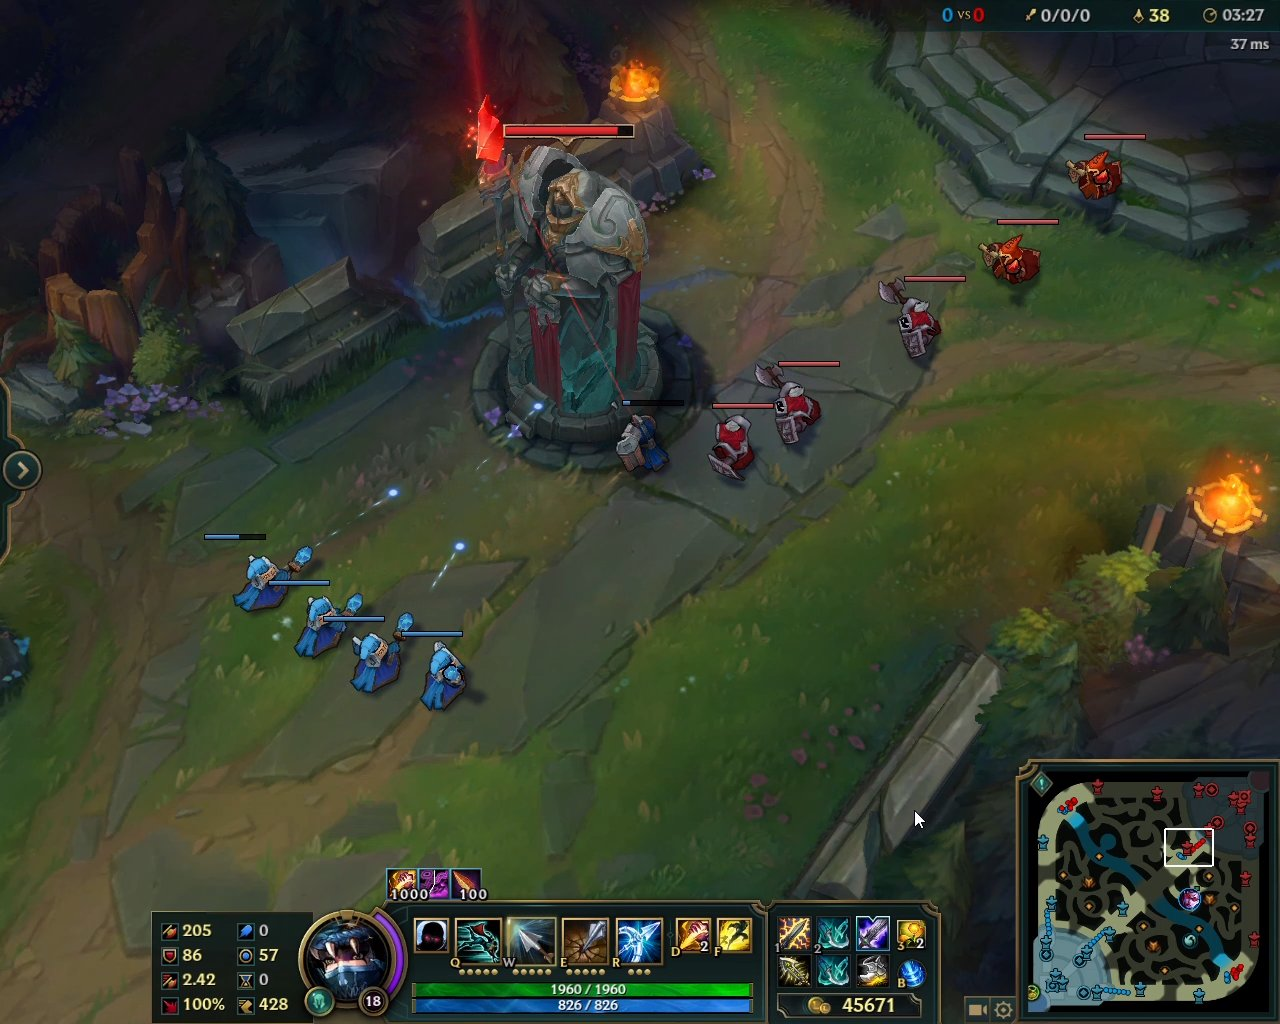EnemyMinion: (752, 356, 841, 449), (872, 275, 965, 363), (1060, 134, 1145, 208), (976, 217, 1060, 290), (704, 402, 775, 487)
Tower: (459, 103, 672, 445)
